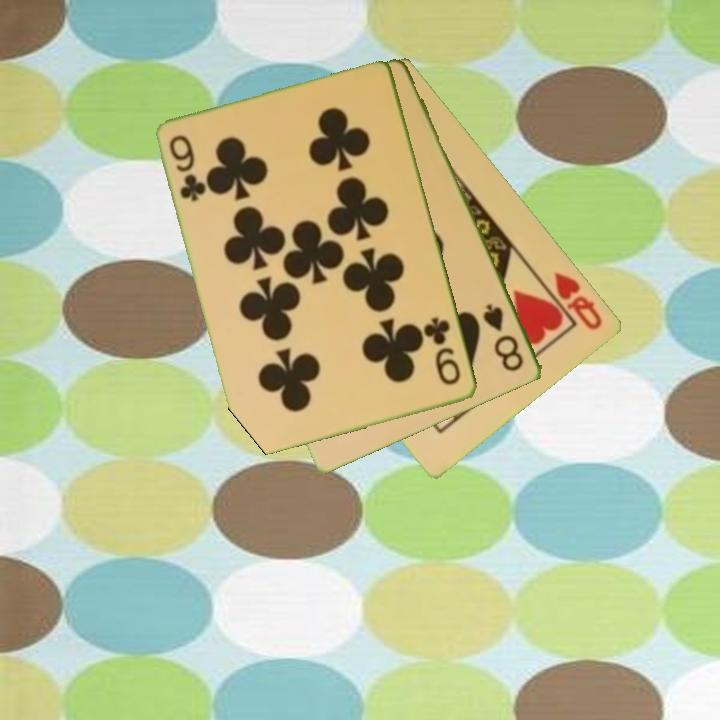8s: (480, 300, 527, 375)
9c: (422, 313, 464, 389), (166, 131, 209, 205)
Qh: (538, 268, 606, 333)
